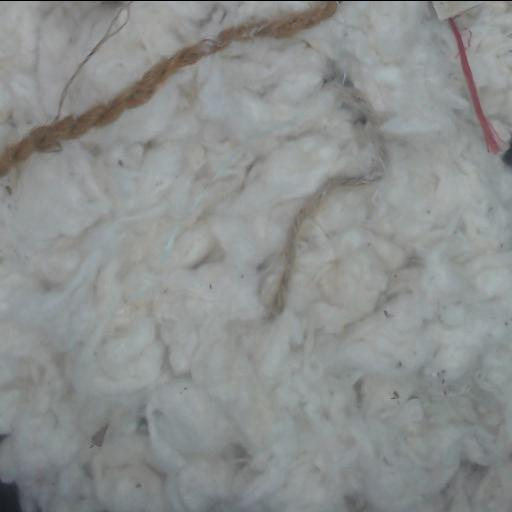cotton: (0, 1, 511, 512), (62, 1, 314, 115), (0, 1, 122, 147), (459, 1, 511, 138)
jute: (0, 1, 341, 177), (258, 65, 385, 318)
thread: (432, 1, 503, 152), (54, 1, 133, 120)
